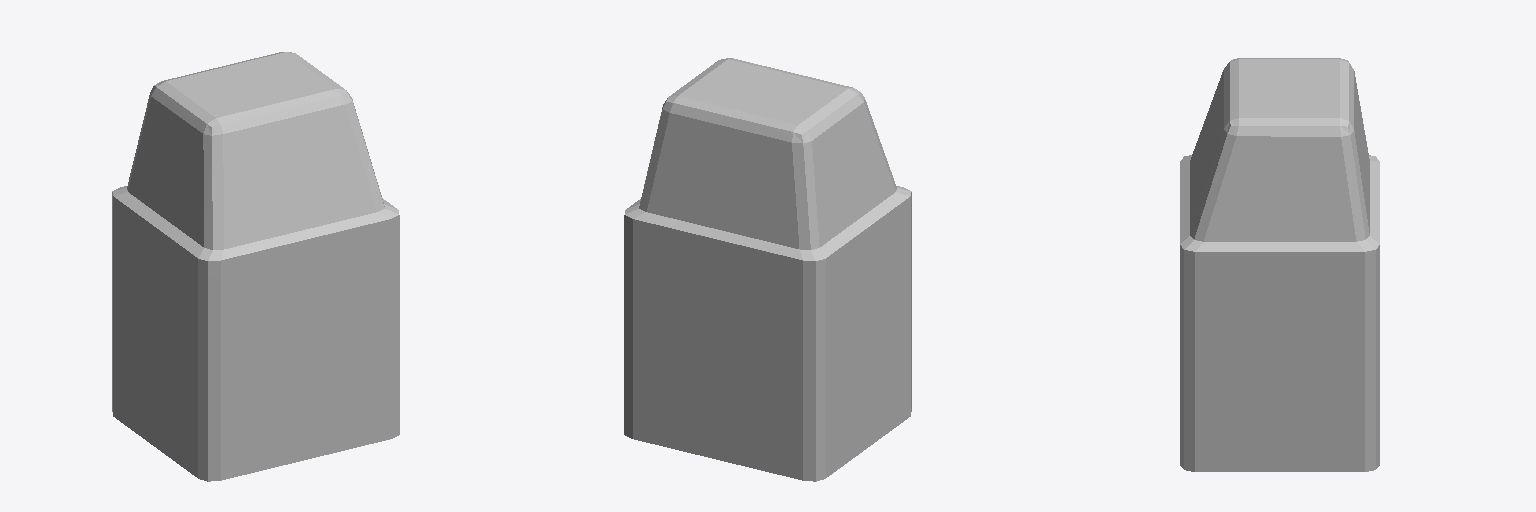
File: trash_can.obj
The picture shows the model from 3 angles: view 1: azimuth 30°, elevation 25°; view 2: azimuth 150°, elevation 25°; view 3: azimuth 270°, elevation 25°; orthographic projection.
Parts seen in each view (by area): view 1: pCube44; view 2: pCube44; view 3: pCube44.
Boxes of the visible parts, x1=… form: pCube44: x1=112, y1=52, x2=399, y2=481; pCube44: x1=624, y1=58, x2=911, y2=481; pCube44: x1=1180, y1=58, x2=1379, y2=471.
Bounding box in the file's own units: 57.21 × 91.44 × 49.53.